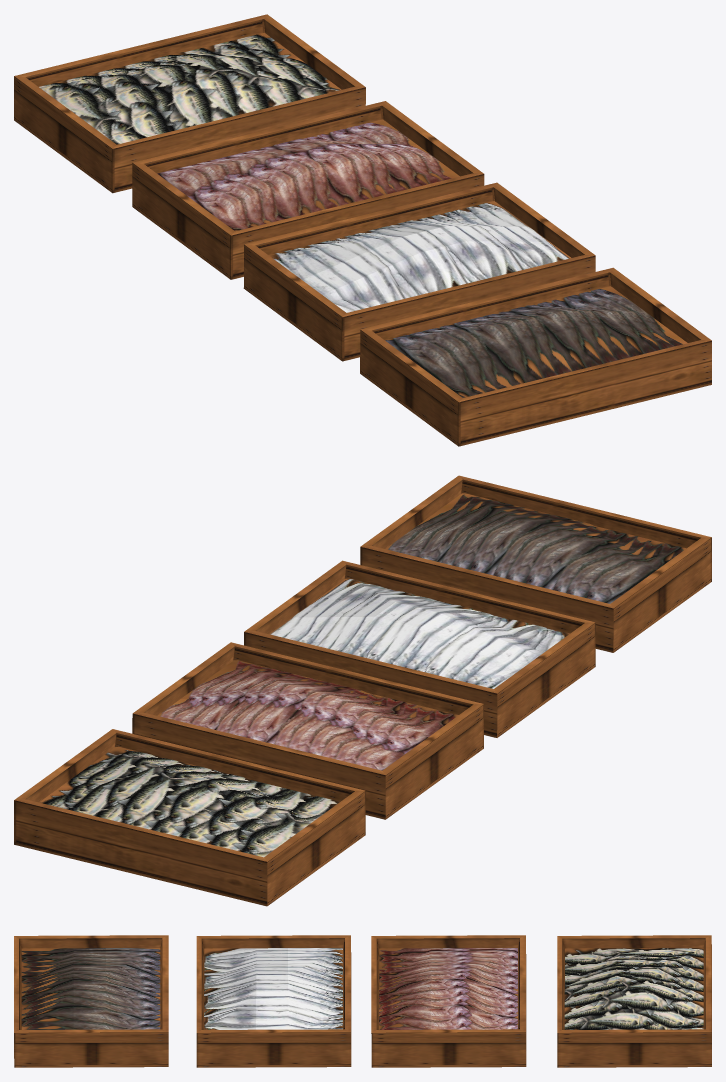
The model's file is fish.FBX.
3 renders of one model, top to bottom at view 1: azimuth 30°, elevation 25°; view 2: azimuth 150°, elevation 25°; view 3: azimuth 270°, elevation 25°, orthographic. The views are drawn at different scales.
Visible parts, largest first — view 1: jim_bike:pCube008, jim_bike:pCube011, jim_bike:pCube009, jim_bike:pCube010; view 2: jim_bike:pCube011, jim_bike:pCube010, jim_bike:pCube008, jim_bike:pCube009; view 3: jim_bike:pCube009, jim_bike:pCube010, jim_bike:pCube008, jim_bike:pCube011.
Boxes of the visible parts, bbox=[...] form: jim_bike:pCube008: bbox=[360, 267, 711, 446]; jim_bike:pCube011: bbox=[14, 14, 365, 193]; jim_bike:pCube009: bbox=[243, 182, 595, 361]; jim_bike:pCube010: bbox=[132, 101, 484, 279]; jim_bike:pCube011: bbox=[14, 729, 365, 906]; jim_bike:pCube010: bbox=[132, 642, 483, 819]; jim_bike:pCube008: bbox=[360, 475, 711, 652]; jim_bike:pCube009: bbox=[244, 560, 595, 737]; jim_bike:pCube009: bbox=[196, 935, 351, 1067]; jim_bike:pCube010: bbox=[371, 935, 526, 1067]; jim_bike:pCube008: bbox=[14, 935, 168, 1067]; jim_bike:pCube011: bbox=[557, 935, 711, 1067].
Bounding box in the file's own units: 5.85 × 1.18 × 17.79.
2 materials, 2 textured.
